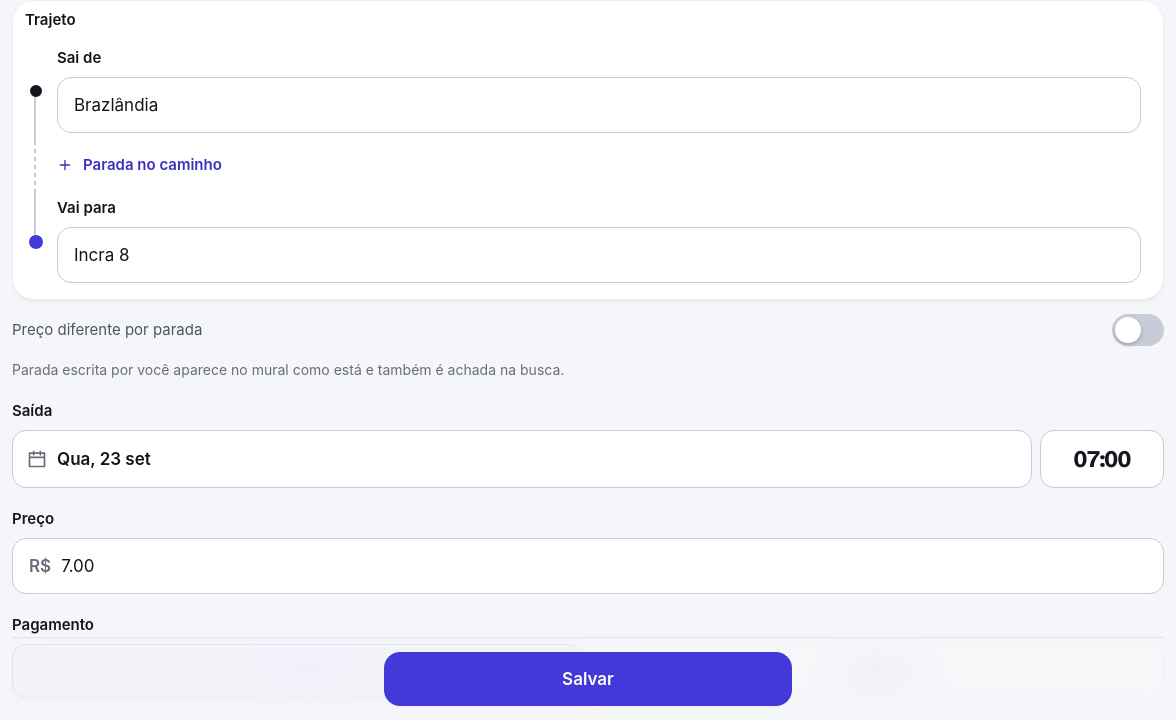
Scenario: StopField, a single field with catalog and free text (D-123) › tells the driver that unmatched text still counts as the stop
Press the mouse on the dropdown labelled "Vai para" at (599, 255), box [74,229,1124,281]
Replace the text in the dropdown labelled "Vai para" with "Sítio Novo". click: (599, 255)
box: [74,229,1124,281]
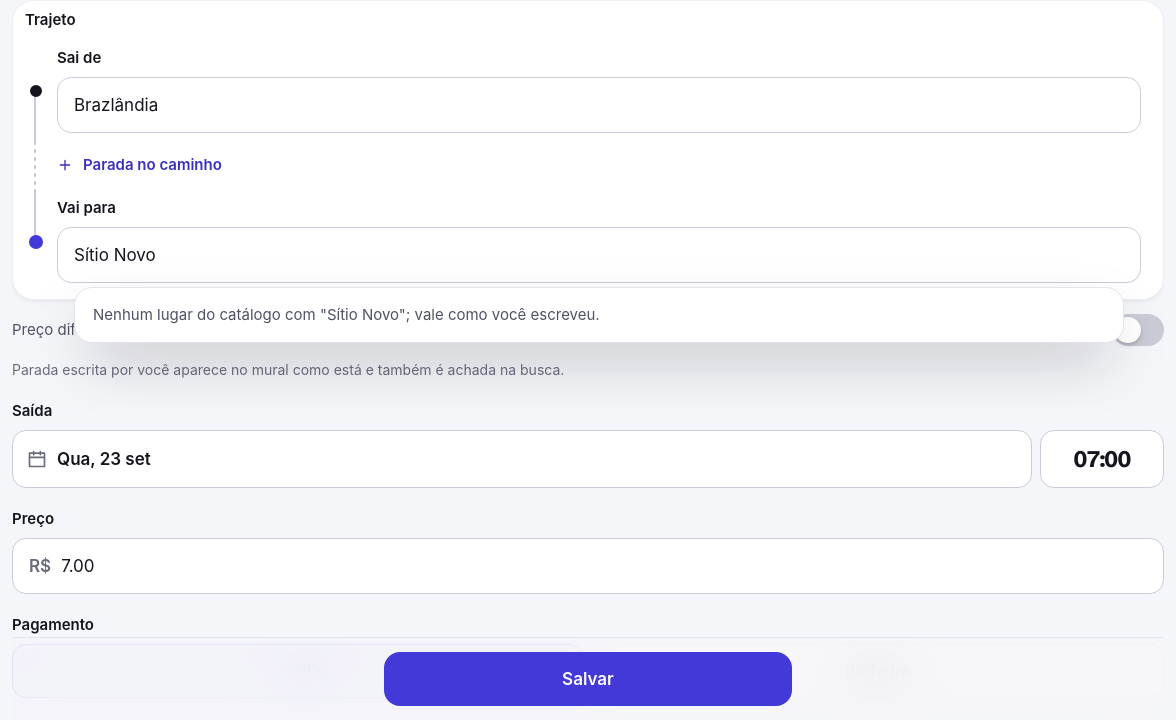
Now the text "Nenhum lugar do catálogo com \"Sítio Novo\"; vale como você escreveu." is shown, box [93,305,600,324]
